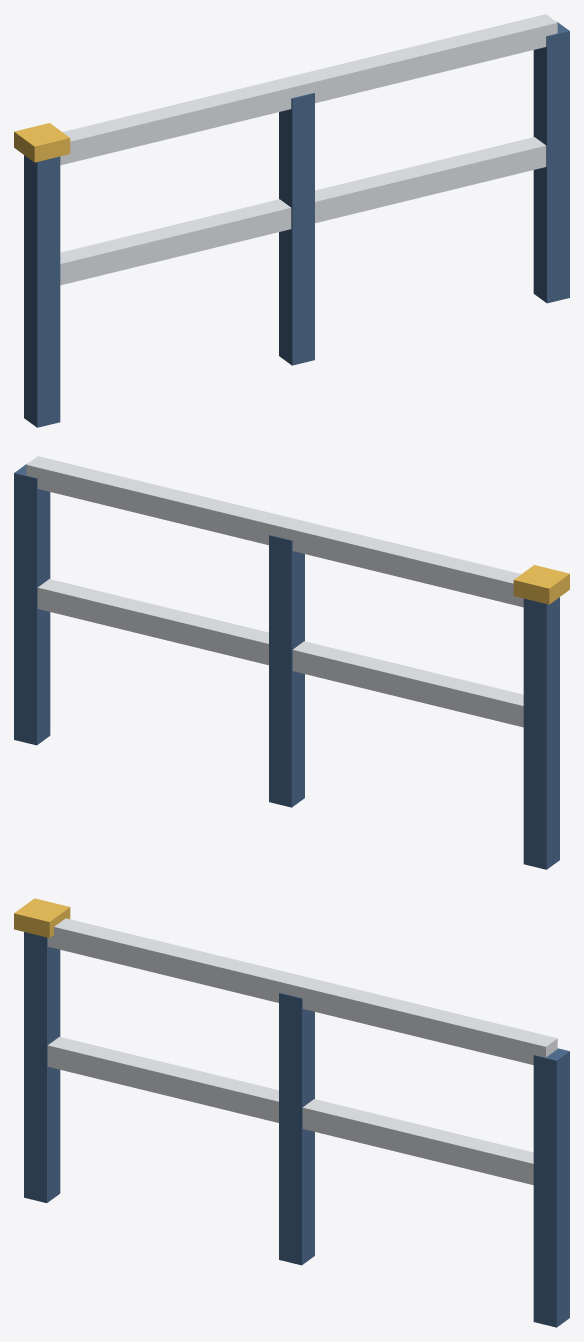
The model's file is railing_short.glb.
3 views of the same model, one above another, from view 1: azimuth 30°, elevation 25°; view 2: azimuth 150°, elevation 25°; view 3: azimuth 330°, elevation 25° (orthographic).
Parts seen in each view (by area): view 1: railing_short_hull_offwhite, railing_short_navy_frame, railing_short_amber_accent; view 2: railing_short_hull_offwhite, railing_short_navy_frame, railing_short_amber_accent; view 3: railing_short_hull_offwhite, railing_short_navy_frame, railing_short_amber_accent.
Boxes of the visible parts, box(x1,y1,x2,y2) form: railing_short_hull_offwhite: box(60, 14, 557, 285); railing_short_navy_frame: box(24, 22, 569, 427); railing_short_amber_accent: box(14, 123, 70, 162); railing_short_hull_offwhite: box(26, 456, 523, 727); railing_short_navy_frame: box(14, 464, 559, 869); railing_short_amber_accent: box(513, 565, 569, 604); railing_short_hull_offwhite: box(47, 918, 557, 1184); railing_short_navy_frame: box(24, 932, 569, 1327); railing_short_amber_accent: box(14, 898, 70, 937).
Bounding box in the file's own units: 2.12 × 1.07 × 0.14.
